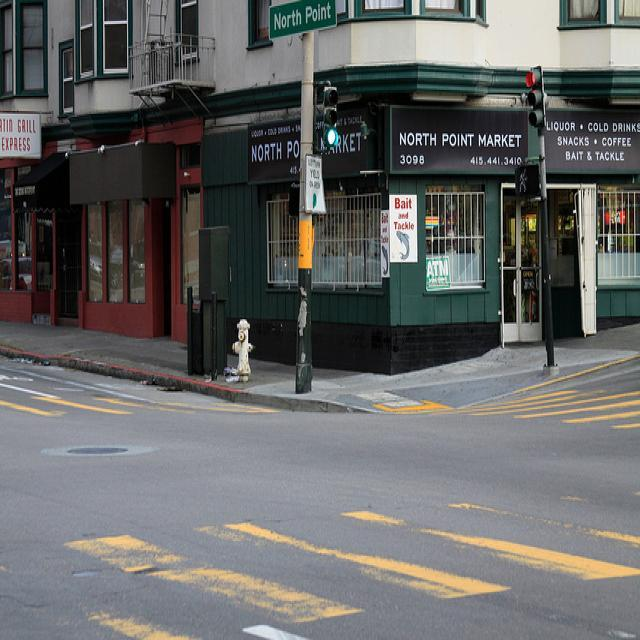fire_hydrant: (232, 320, 254, 382)
